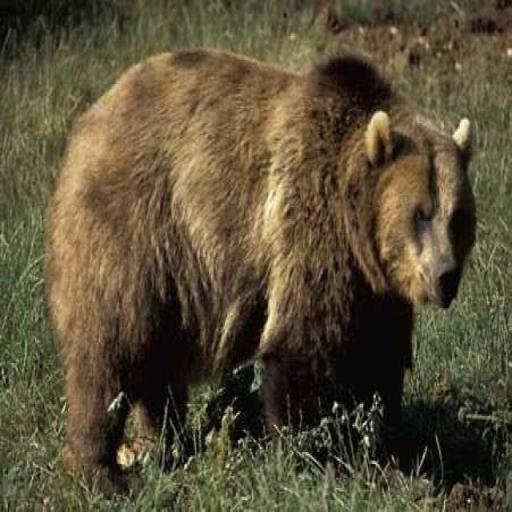Bear: (42, 44, 477, 483)
